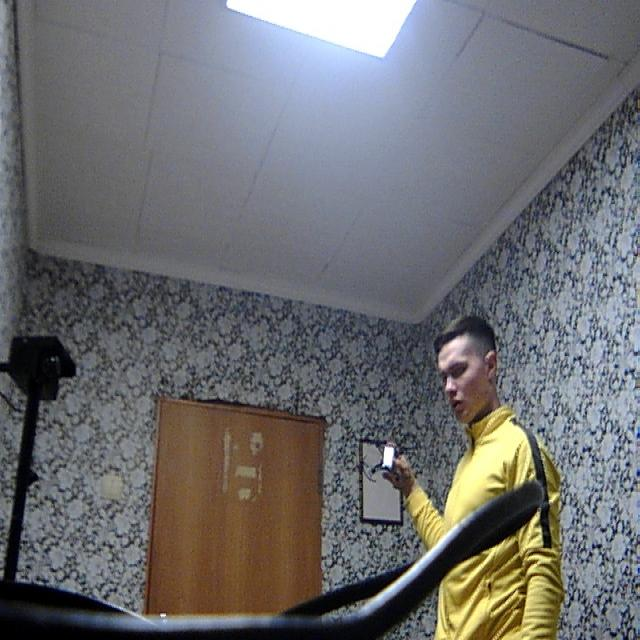drone: (357, 405, 425, 498)
